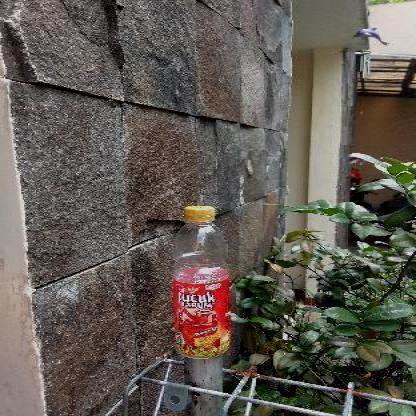plastic_bottles: (168, 203, 232, 361)
